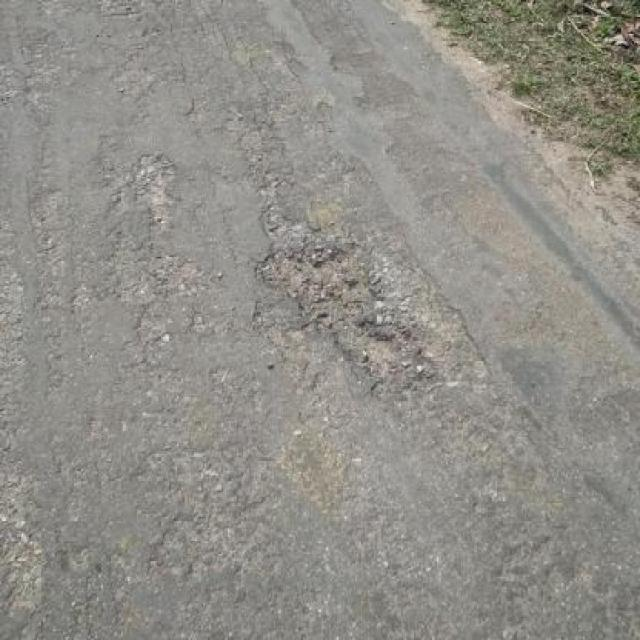Pothole: (252, 241, 431, 394), (129, 152, 179, 223)
